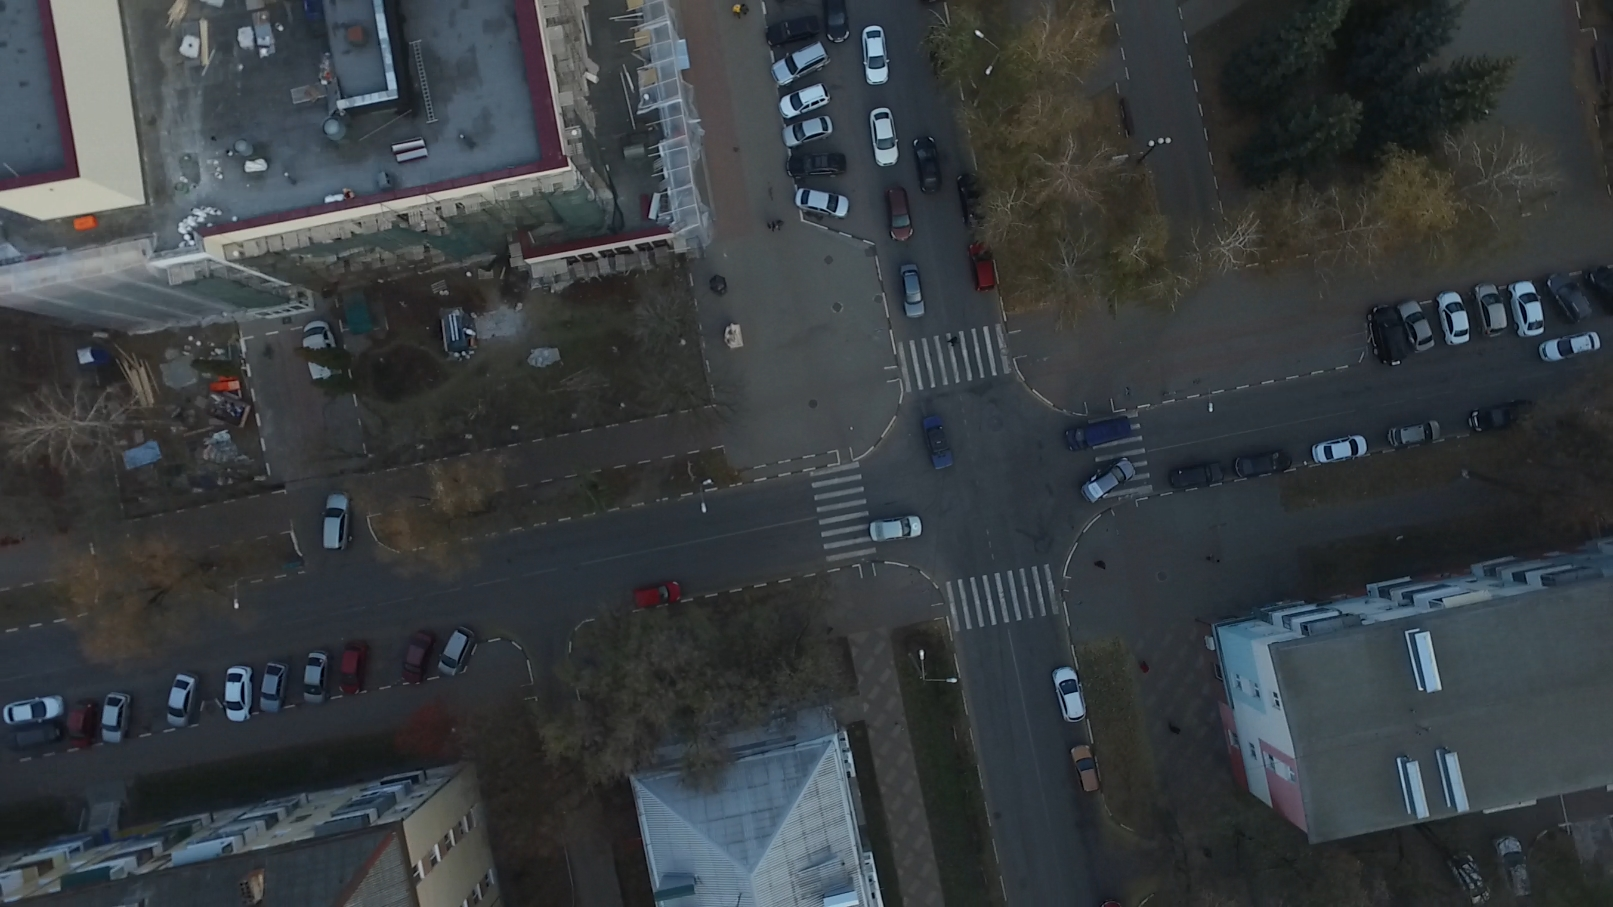car: (1542, 268, 1591, 321), (216, 662, 255, 726), (1082, 456, 1134, 504), (1050, 664, 1090, 726), (316, 489, 355, 552), (794, 181, 851, 221), (1369, 305, 1406, 368), (767, 45, 828, 82), (436, 625, 477, 678), (1062, 416, 1130, 449), (1394, 296, 1432, 351), (783, 148, 845, 183), (395, 631, 434, 686), (1435, 288, 1470, 346), (1468, 399, 1538, 427), (95, 693, 133, 746), (163, 676, 201, 729), (859, 21, 891, 83), (867, 107, 901, 167), (1507, 277, 1541, 334), (335, 643, 370, 698), (777, 83, 831, 118), (60, 697, 97, 748), (253, 661, 289, 713), (1473, 278, 1506, 337), (881, 183, 913, 240), (1534, 333, 1597, 362), (778, 113, 833, 145), (1232, 447, 1288, 478), (911, 133, 941, 190), (298, 651, 329, 707), (1168, 458, 1223, 489), (1308, 436, 1370, 464), (1, 695, 63, 723), (922, 416, 952, 473), (897, 259, 927, 316), (759, 16, 813, 47), (629, 580, 682, 610), (1385, 421, 1440, 449), (966, 233, 993, 289), (869, 515, 924, 542), (1069, 744, 1099, 793), (958, 171, 983, 226), (822, 1, 849, 49)
